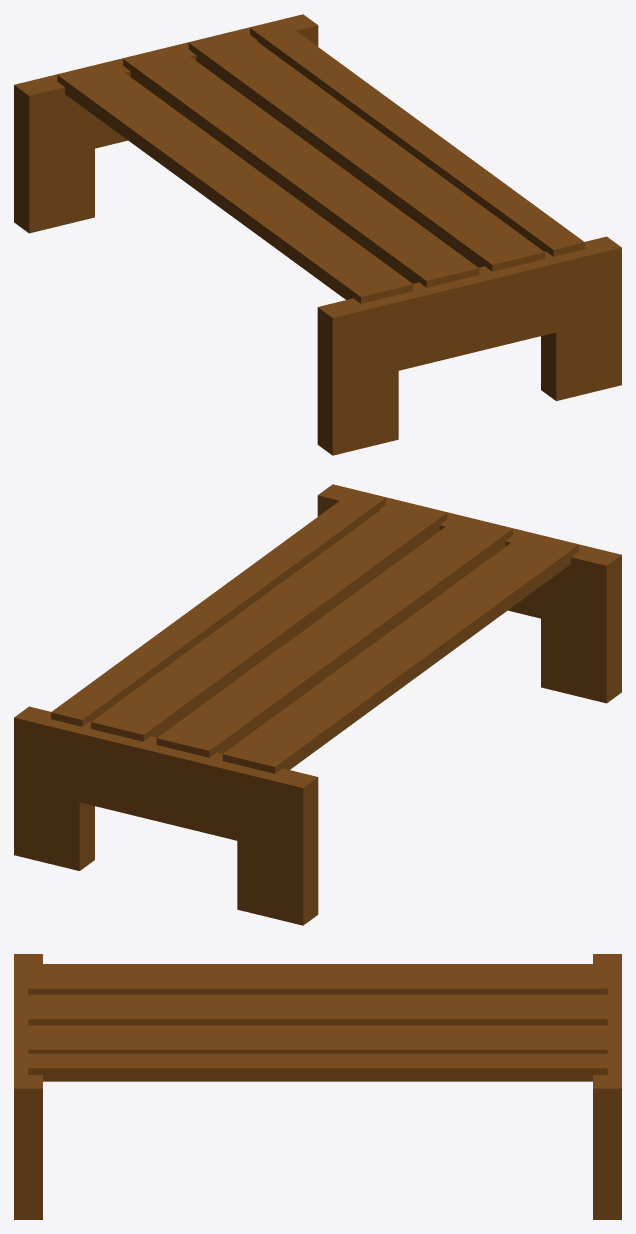
Rendered from Bench.fbx.
3 views of the same model, one above another, from view 1: azimuth 30°, elevation 25°; view 2: azimuth 150°, elevation 25°; view 3: azimuth 270°, elevation 25° (orthographic). The views are drawn at different scales.
Parts seen in each view (by area): view 1: Cube.293; view 2: Cube.293; view 3: Cube.293.
Boxes of the visible parts, box(x1,y1,x2,y2) form: Cube.293: box(14, 14, 621, 455); Cube.293: box(14, 484, 621, 925); Cube.293: box(14, 954, 621, 1219).
Size of the model in its own units: 220 by 105 by 420.
